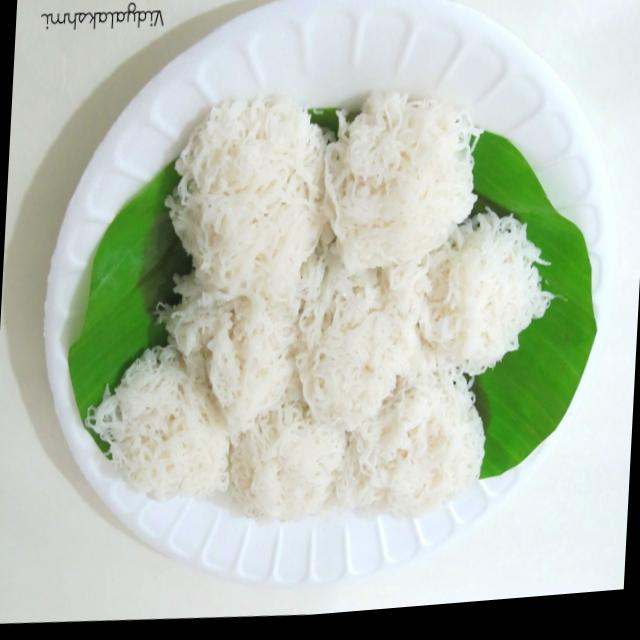IDIYAPPAM: (91, 87, 545, 531)
